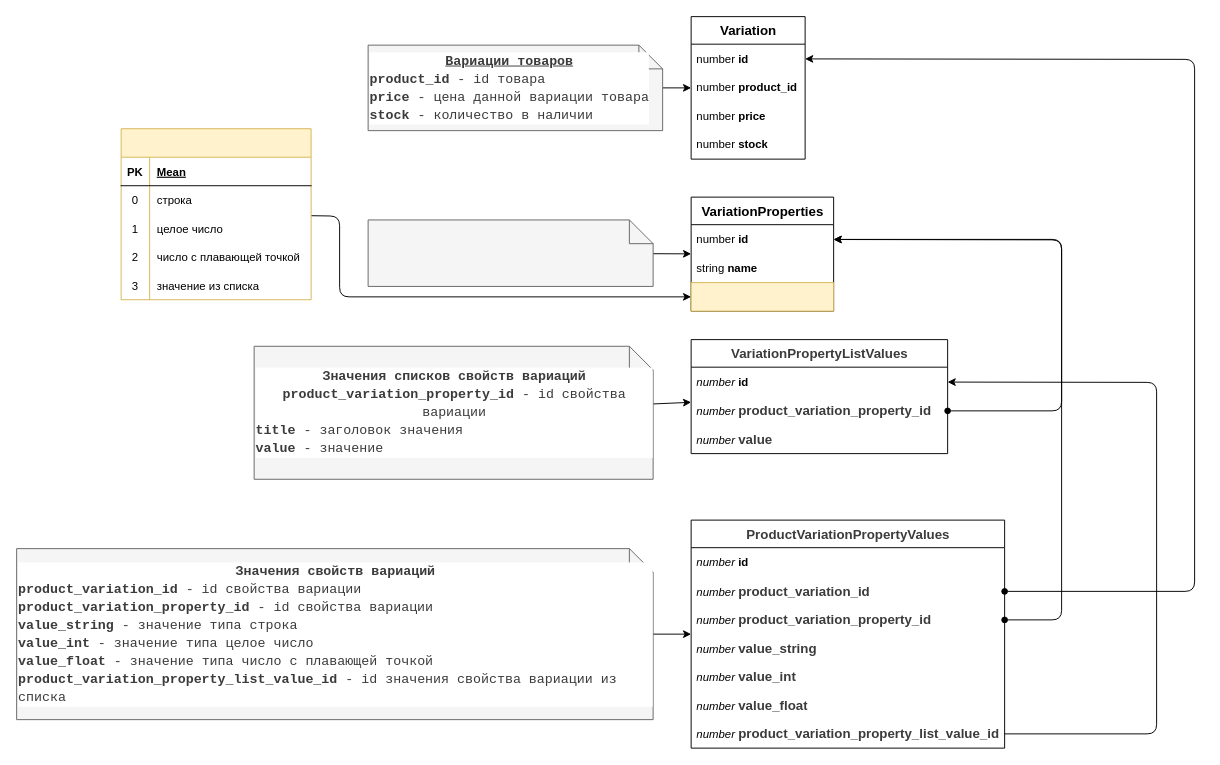
Some shapes in this 1220 by 765 pixel diagram are drawn without their labels. Here are the shapes that lost their labels. From the top down, the box of each, then its label:
(120, 128, 311, 300): Типы свойства
(367, 219, 653, 286): Свойства вариаций name - название свойства type - тип свойства:
(690, 282, 834, 311): number type
